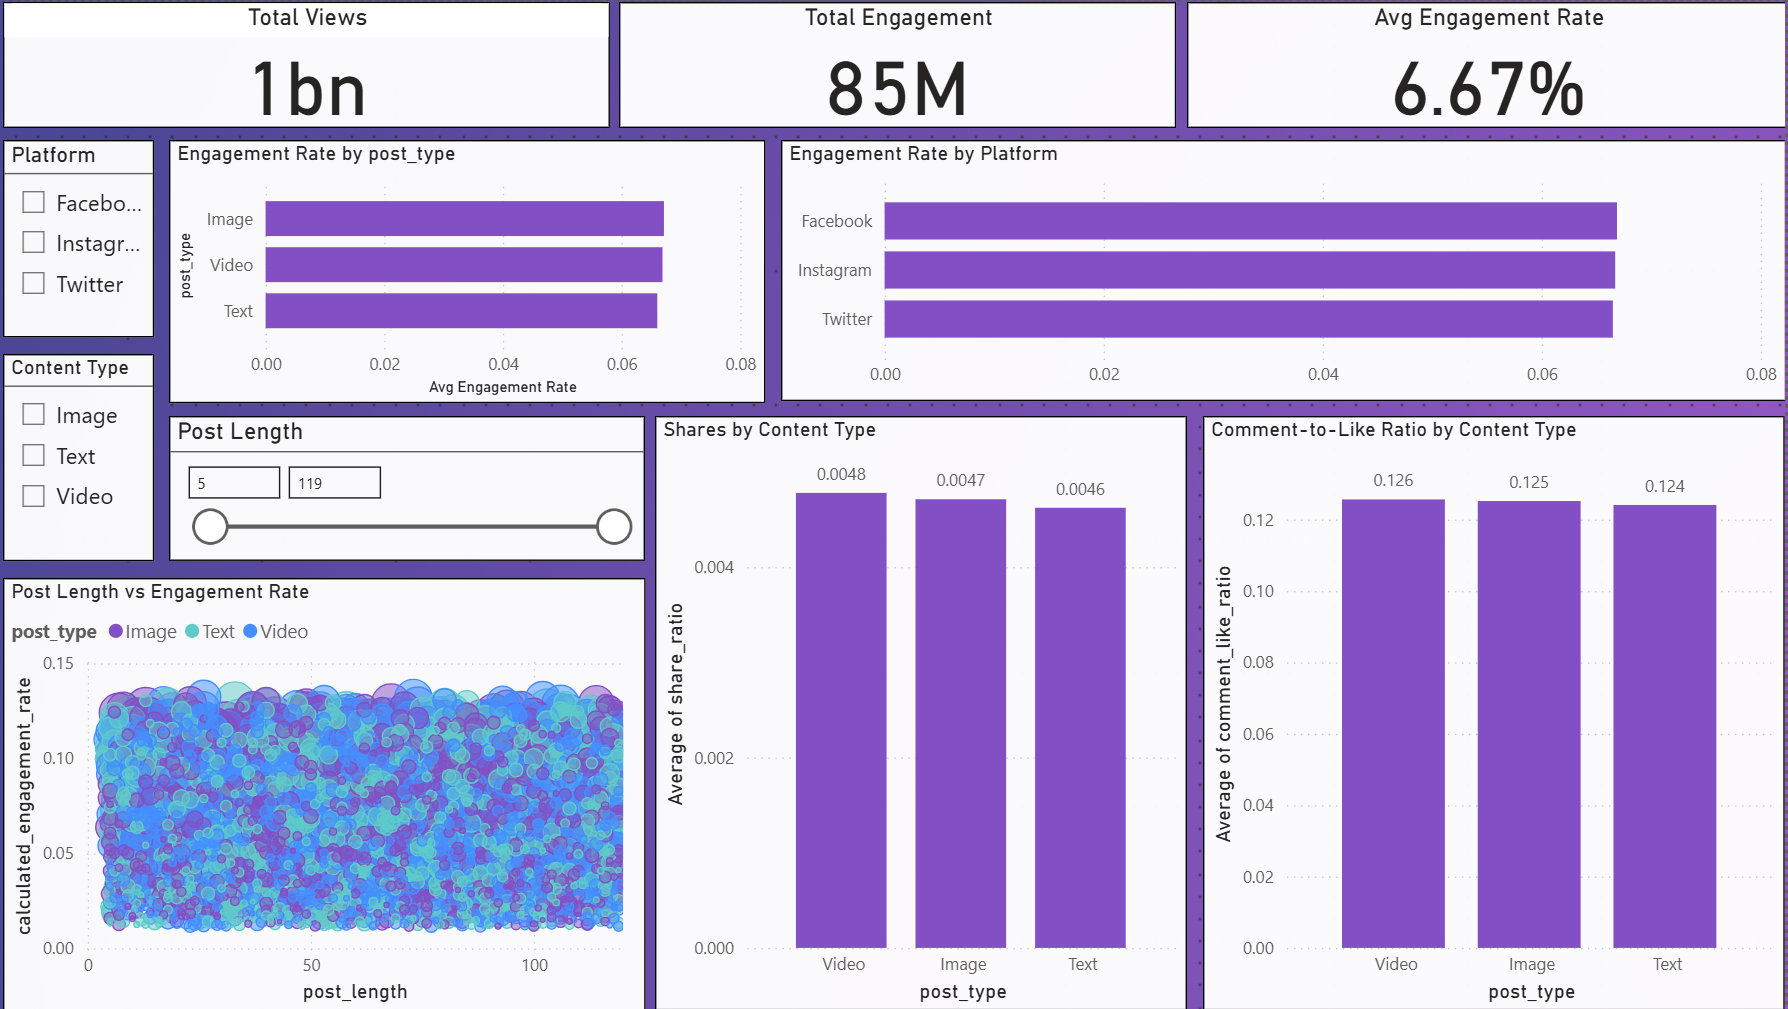

This screenshot's page, from the dashboard's own definition file:
{"tool":"powerbi","page":{"name":"Page 1","canvas":[1280,720],"ordinal":0},"visuals":[{"type":"card","title":"Avg Engagement Rate","fields":{"Values":["social_media_engagement_dataset.Avg Engagement Rate"]},"box":[769,5,340,85],"z":0},{"type":"card","title":"Total Engagement","fields":{"Values":["social_media_engagement_dataset.Total Engagement"]},"box":[384,5,376,85],"z":1000},{"type":"card","title":"Total Views","fields":{"Values":["social_media_engagement_dataset.Total Views"]},"box":[7,5,367,85],"z":2000},{"type":"clusteredBarChart","title":"Engagement Rate by Platform","fields":{"Category":["social_media_engagement_dataset.platform"],"Y":["Avg(social_media_engagement_dataset.engagement_rate)"]},"box":[562,99,546,187],"z":3000},{"type":"clusteredBarChart","title":"Engagement Rate by post_type","fields":{"Category":["social_media_engagement_dataset.post_type"],"Y":["social_media_engagement_dataset.Avg Engagement Rate"]},"box":[126,98,426,188],"z":4000},{"type":"scatterChart","title":"Post Length vs Engagement Rate","fields":{"X":["social_media_engagement_dataset.post_length"],"Y":["social_media_engagement_dataset.calculated_engagement_rate"],"Series":["social_media_engagement_dataset.post_type"],"Size":["Sum(social_media_engagement_dataset.total_engagement)"]},"box":[7,411,459,298],"z":5000},{"type":"clusteredColumnChart","title":"Shares by Content Type","fields":{"Category":["social_media_engagement_dataset.post_type"],"Y":["Avg(social_media_engagement_dataset.share_ratio)"]},"box":[473,295,307,413],"z":6000},{"type":"clusteredColumnChart","title":"Comment-to-Like Ratio by Content Type","fields":{"Category":["social_media_engagement_dataset.post_type"],"Y":["Avg(social_media_engagement_dataset.comment_like_ratio)"]},"box":[787,295,321,415],"z":7000},{"type":"slicer","title":"Platform","fields":{"Values":["social_media_engagement_dataset.platform"]},"box":[7,98,108,141],"z":8000},{"type":"slicer","title":"Content Type","fields":{"Values":["social_media_engagement_dataset.post_type"]},"box":[7,251,108,148],"z":9000},{"type":"slicer","title":"Post Length","fields":{"Values":["social_media_engagement_dataset.post_length"]},"box":[125.6,295.6,340,103.3],"z":10000}]}

Visuals, with their boxes in screenshot pixels (x1, y1, x2, y2), scaled from the page's 1280x720 canvas onto the 1788x1009 screenshot:
"Avg Engagement Rate" card: rect(1074, 7, 1549, 126)
"Total Engagement" card: rect(536, 7, 1062, 126)
"Total Views" card: rect(10, 7, 522, 126)
"Engagement Rate by Platform" clusteredBarChart: rect(785, 139, 1548, 401)
"Engagement Rate by post_type" clusteredBarChart: rect(176, 137, 771, 401)
"Post Length vs Engagement Rate" scatterChart: rect(10, 576, 651, 994)
"Shares by Content Type" clusteredColumnChart: rect(661, 413, 1090, 992)
"Comment-to-Like Ratio by Content Type" clusteredColumnChart: rect(1099, 413, 1548, 995)
"Platform" slicer: rect(10, 137, 161, 335)
"Content Type" slicer: rect(10, 352, 161, 559)
"Post Length" slicer: rect(175, 414, 650, 559)
